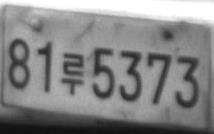1: (33, 39, 58, 92)
3: (174, 55, 199, 108), (118, 49, 142, 101)
5: (90, 47, 116, 100)
7: (147, 51, 171, 104)
8: (7, 37, 31, 89)
루: (60, 52, 85, 96)
